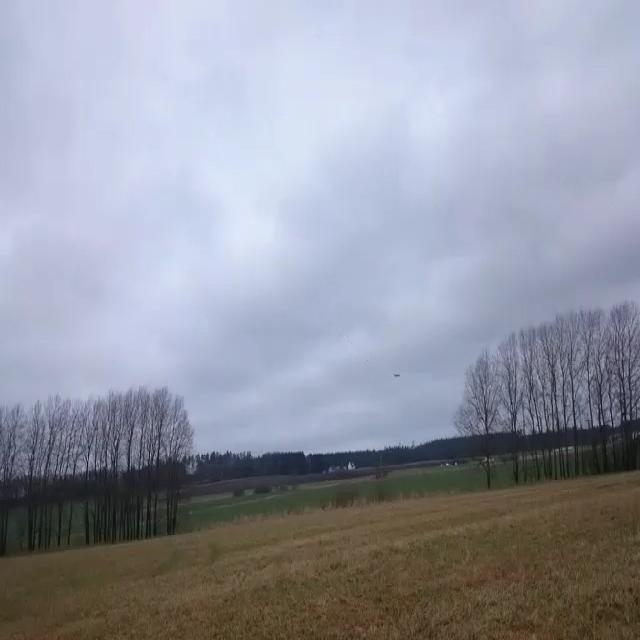drone: (394, 374, 401, 378)
